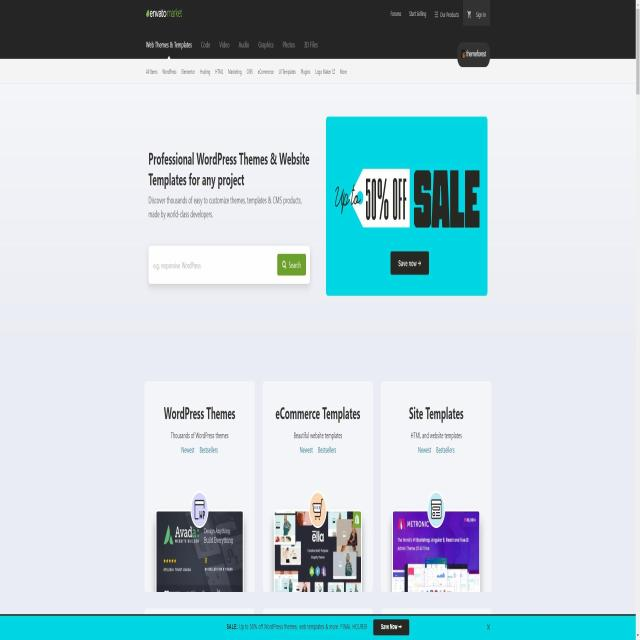button: (276, 252, 307, 278), (373, 619, 410, 637), (464, 1, 489, 26)
input: (148, 244, 276, 284)
